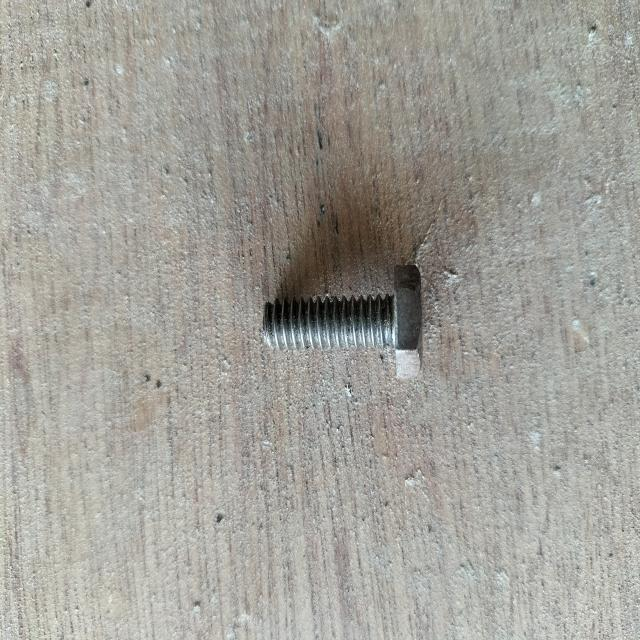bolt: (263, 266, 425, 379)
